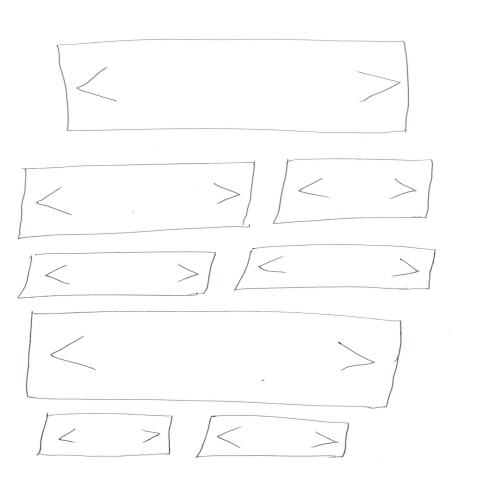Carousel: (25, 312, 405, 410), (55, 39, 412, 136), (16, 162, 256, 241), (272, 159, 435, 226), (232, 244, 438, 292), (16, 252, 216, 301), (194, 416, 350, 460), (33, 414, 174, 459)
